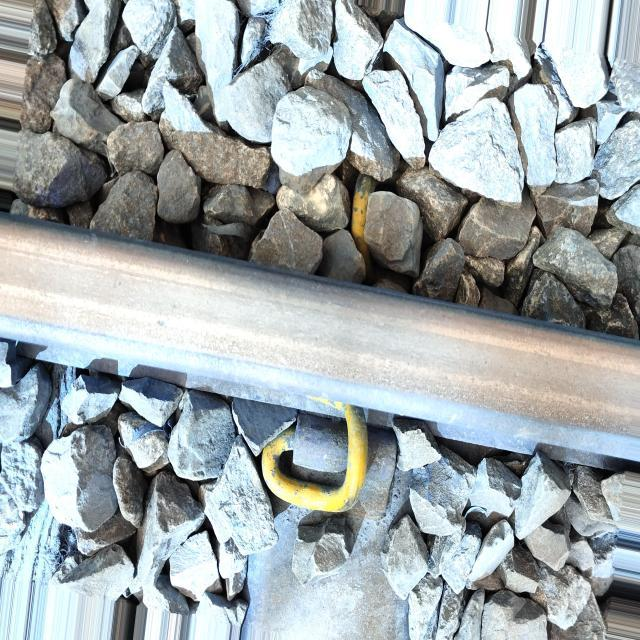Good Fasteners: (227, 377, 429, 563), (274, 138, 421, 271)
